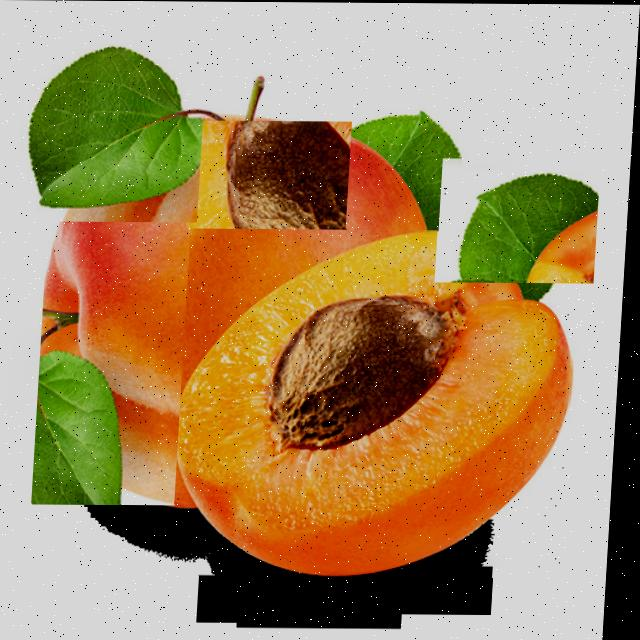Apricot: (45, 121, 434, 505), (185, 231, 576, 576)
Leaf: (23, 44, 208, 222), (447, 149, 595, 292), (349, 99, 474, 230)
